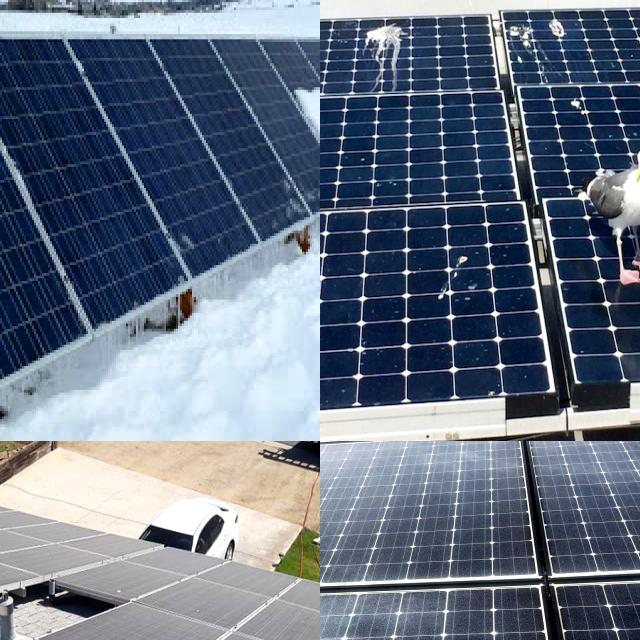bird: (357, 21, 422, 87), (429, 247, 489, 317), (502, 14, 542, 82), (544, 8, 593, 54), (558, 91, 590, 121)
dust: (0, 504, 81, 602), (0, 512, 60, 570), (88, 603, 161, 640), (178, 608, 220, 640), (98, 561, 140, 593)
panel: (162, 188, 205, 286)
